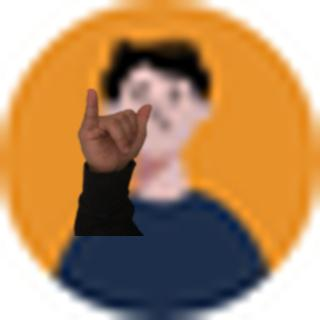HAVE: (70, 84, 160, 173)
